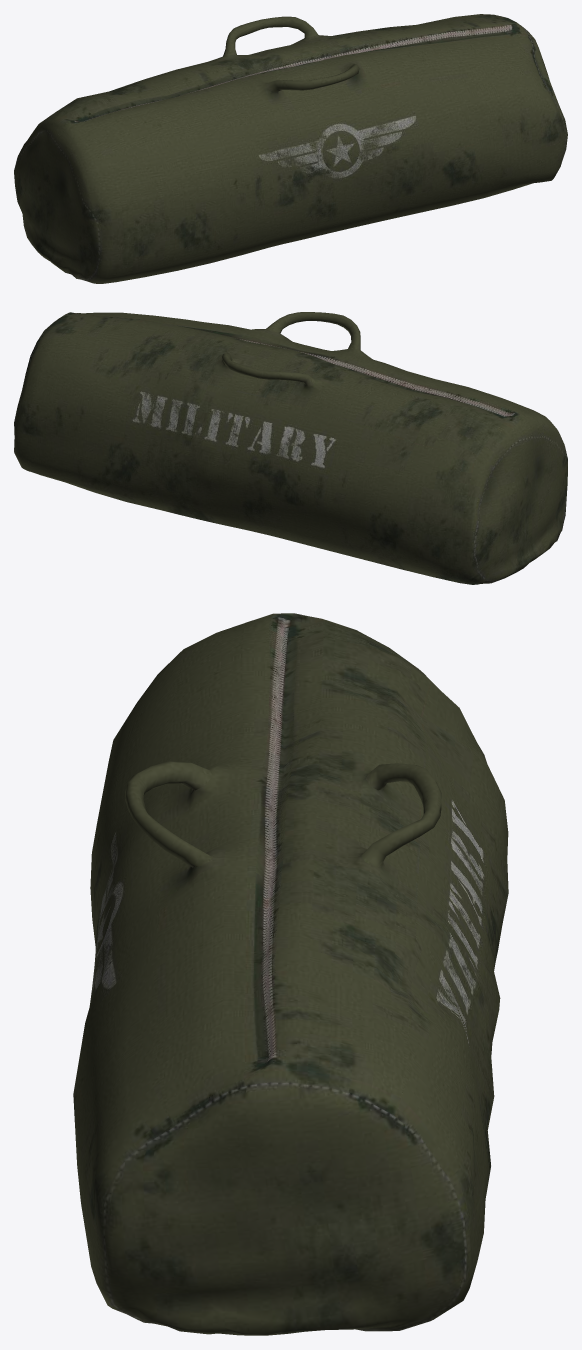
File: duffel_bag.glb
3 renders of one model, top to bottom at view 1: azimuth 30°, elevation 25°; view 2: azimuth 150°, elevation 25°; view 3: azimuth 270°, elevation 25°, orthographic. The views are drawn at different scales.
Visible parts, largest first — view 1: defaultMaterial; view 2: defaultMaterial; view 3: defaultMaterial.
Boxes of the visible parts, bbox=[...] form: defaultMaterial: bbox=[14, 14, 567, 283]; defaultMaterial: bbox=[14, 312, 567, 584]; defaultMaterial: bbox=[73, 613, 508, 1335].
Bounding box in the file's own units: 153 × 48.58 × 59.62.
1 material, 1 textured.
